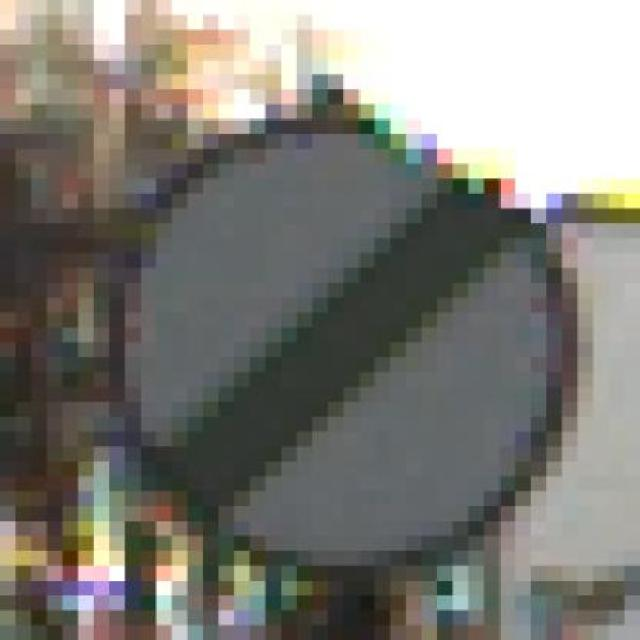End of all speed and passing limits: (93, 104, 593, 596)
